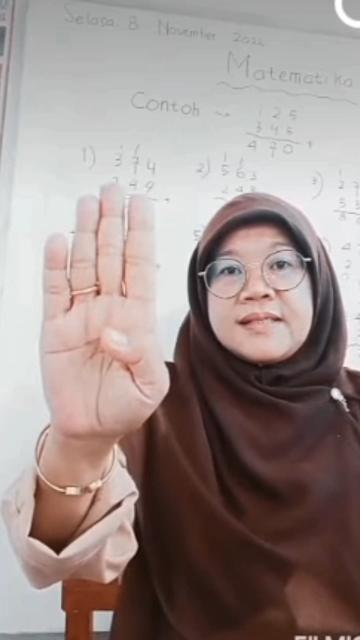B: (36, 180, 172, 442)
